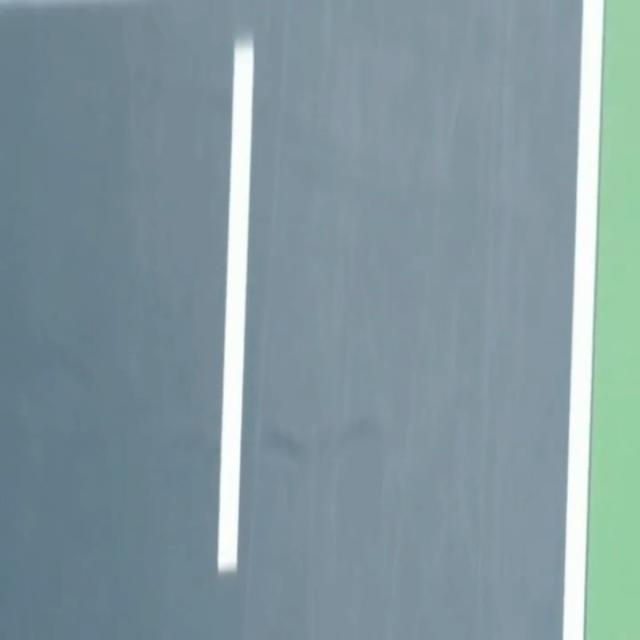center: (218, 36, 253, 572)
right: (563, 0, 604, 639)
